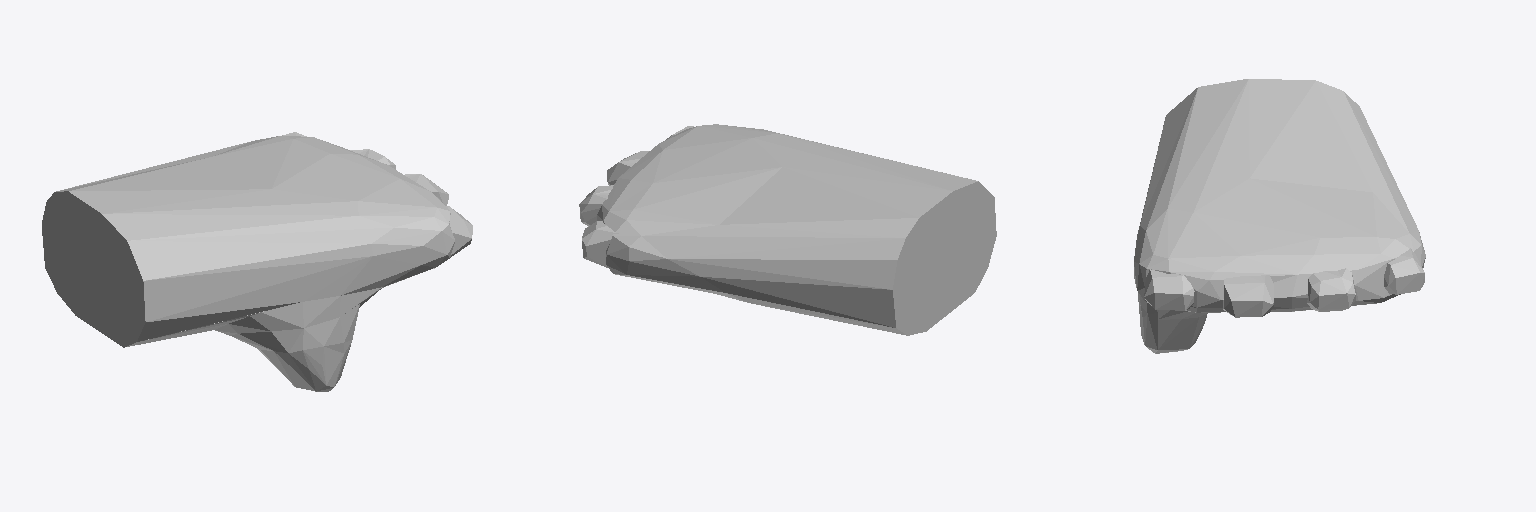
File: palm_l_col.obj
3 renders of one model, left to right at view 1: azimuth 30°, elevation 25°; view 2: azimuth 150°, elevation 25°; view 3: azimuth 270°, elevation 25°, orthographic.
Bounding box in the file's own units: 0.1594 × 0.085 × 0.119.